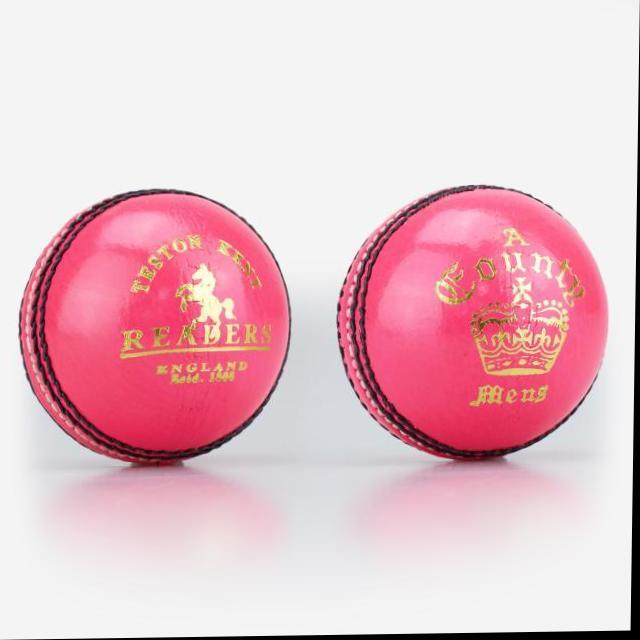cricket ball: (338, 185, 610, 463), (21, 190, 294, 465)
